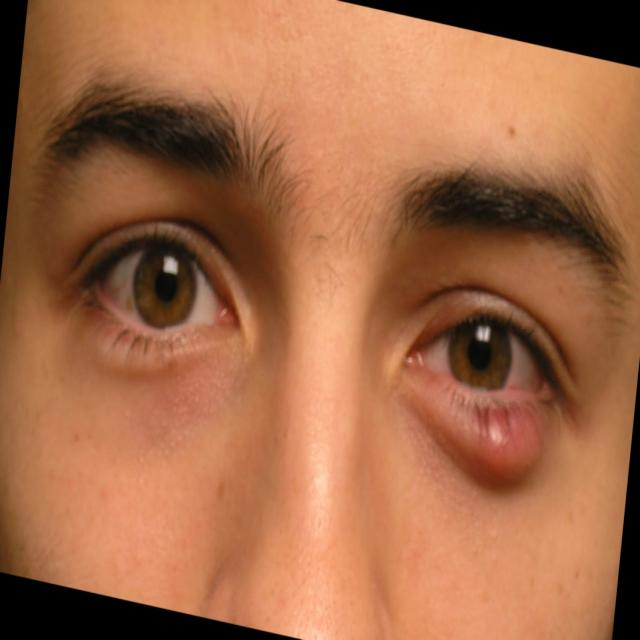Chalazion: (399, 256, 568, 500)
Healthy-Eye: (67, 168, 256, 398)
